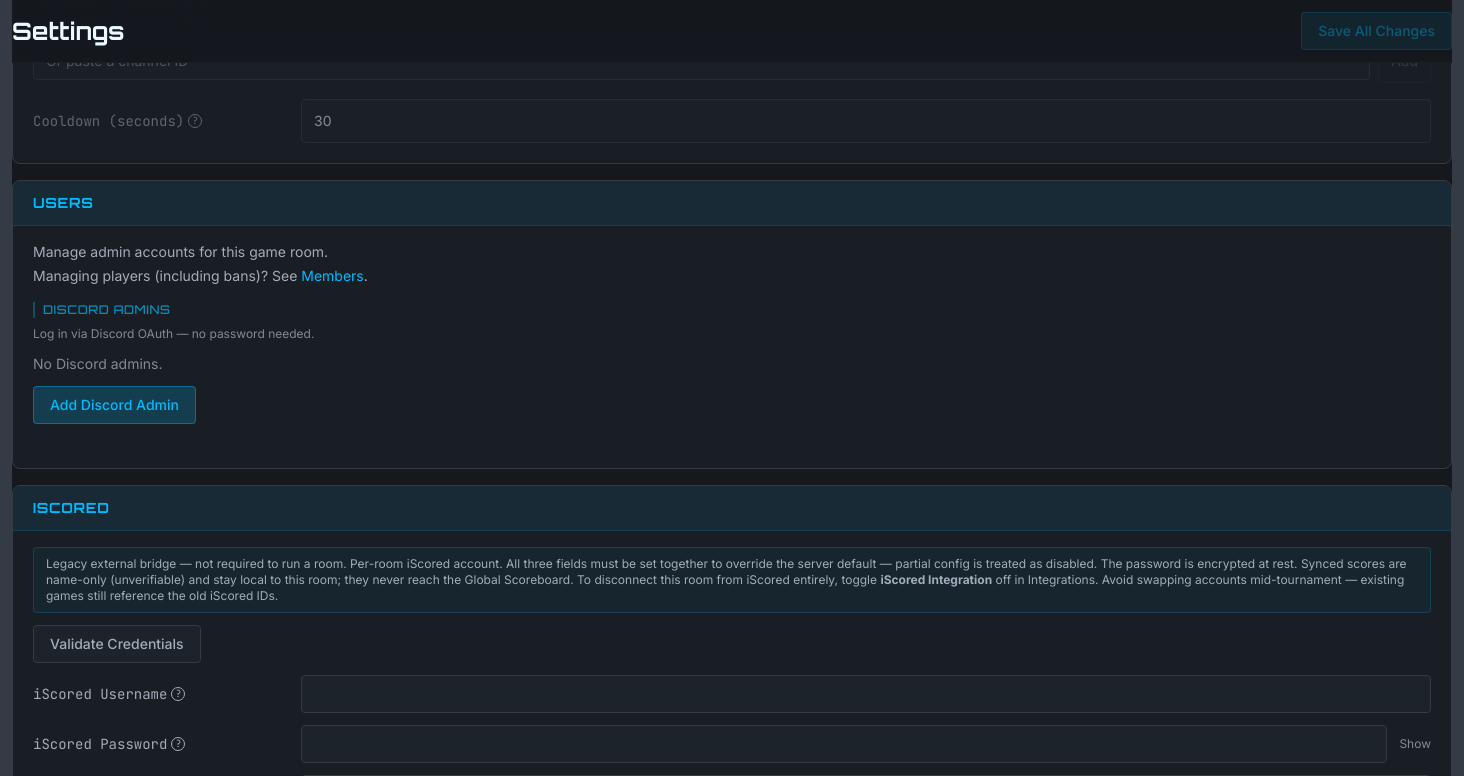
Test case: Settings page — ROOM_LISTED, JOIN_POLICY, AUTO_APPROVE_GUILD_MEMBERS, iScored posture › Users card — guild-wide admin typeahead (Task B) › rooms without a linked guild keep the room-roster MemberAdminPicker
(page scrolled)
Expected: the heading "Settings" is shown, left=12, top=15, right=124, bottom=47
Click the button "Add Discord Admin": [114, 405] box left=33, top=386, right=196, bottom=424
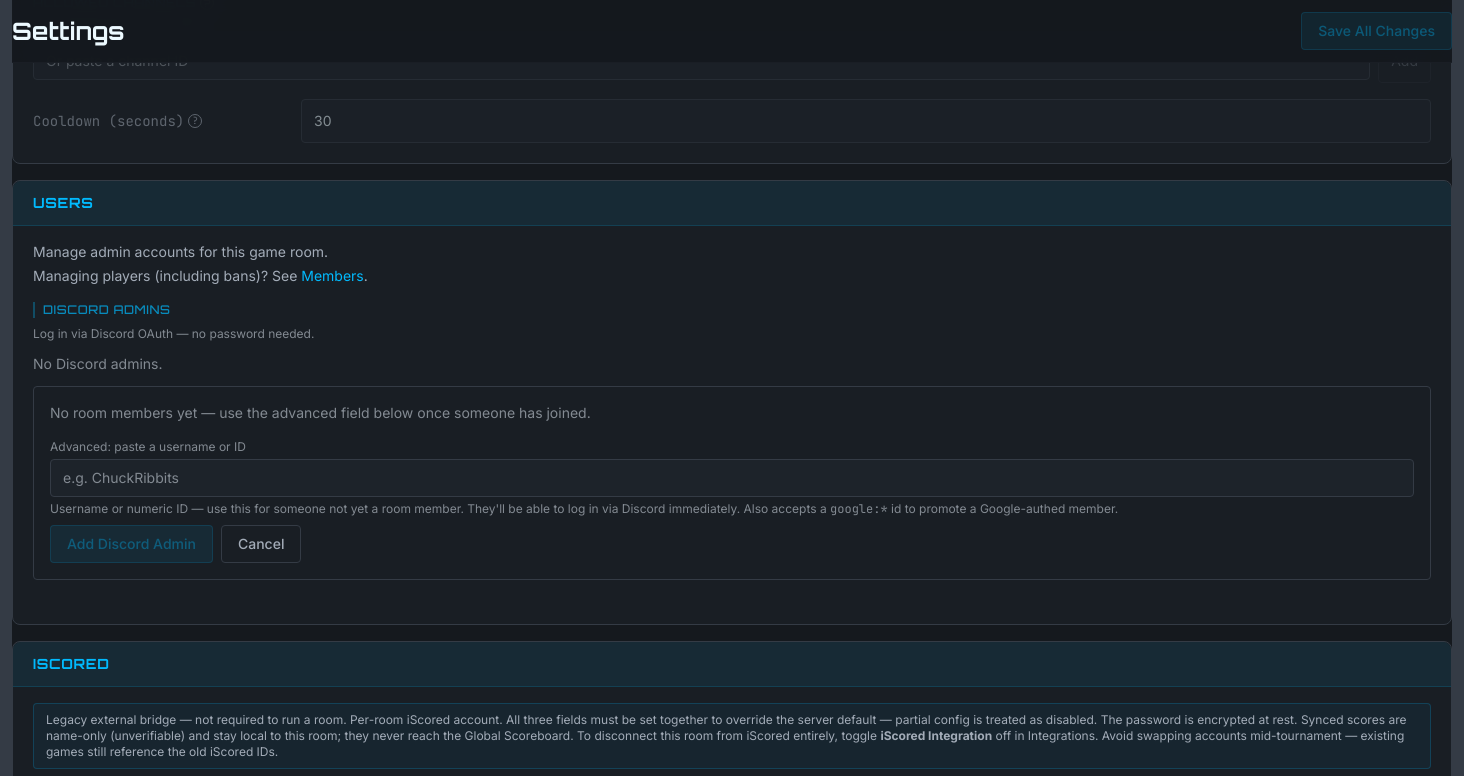
Expected: the text with test id "member-admin-picker-empty" is shown, left=50, top=404, right=591, bottom=421
